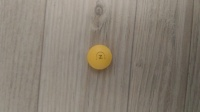Nurofen: (86, 44, 113, 71)
